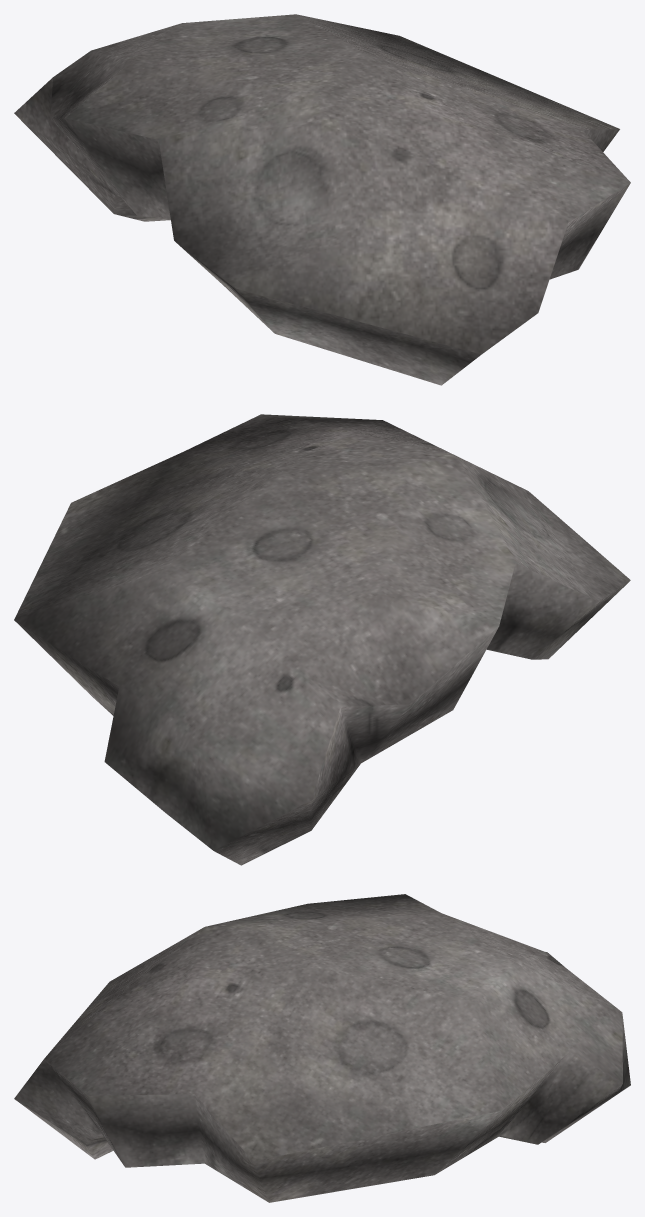
The model's file is Asteroid_piece_02.FBX.
3 renders of one model, top to bottom at view 1: azimuth 30°, elevation 25°; view 2: azimuth 150°, elevation 25°; view 3: azimuth 270°, elevation 25°, orthographic. The views are drawn at different scales.
Parts seen in each view (by area): view 1: Asteroid_piece_02; view 2: Asteroid_piece_02; view 3: Asteroid_piece_02.
Boxes of the visible parts, box(x1,y1,x2,y2) form: Asteroid_piece_02: box(14, 14, 630, 385); Asteroid_piece_02: box(14, 414, 630, 865); Asteroid_piece_02: box(14, 894, 630, 1202).
Size of what is drawn, in the model's own units: 31.42 by 15.39 by 39.24.
